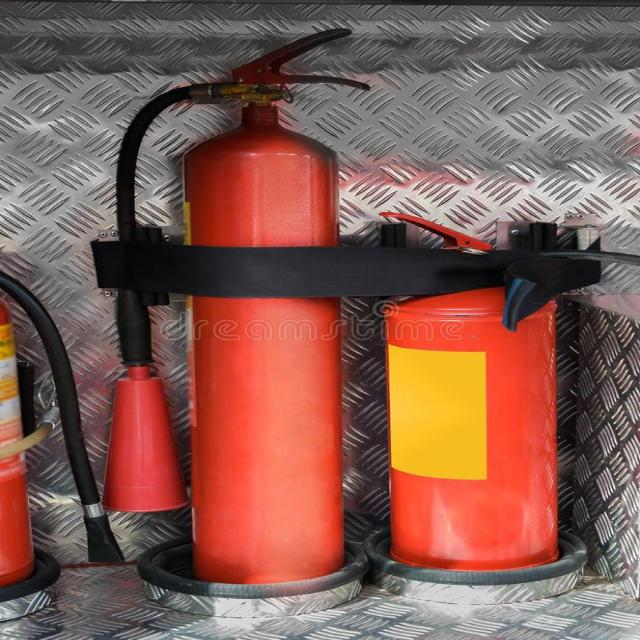fire_extinguisher: (108, 20, 362, 582), (374, 208, 588, 586), (0, 258, 128, 591)
